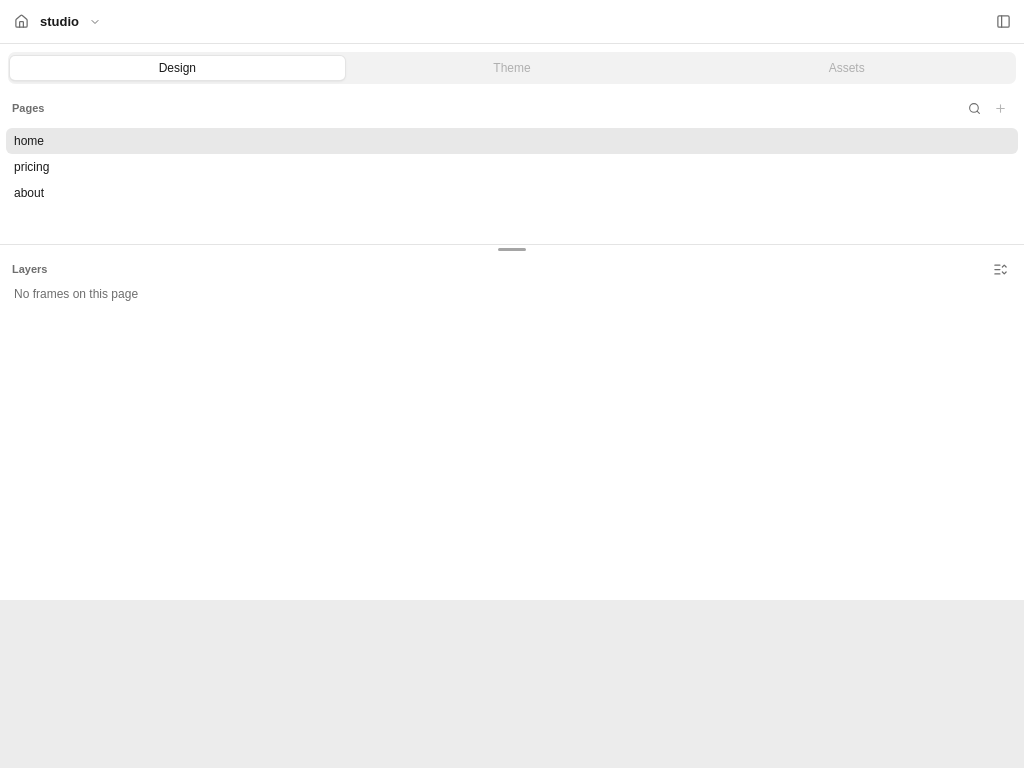
Test: LeftPanel › pages › says when no page matches the search
Click the button named "Search pages" at (974, 108), box [962, 96, 986, 120]
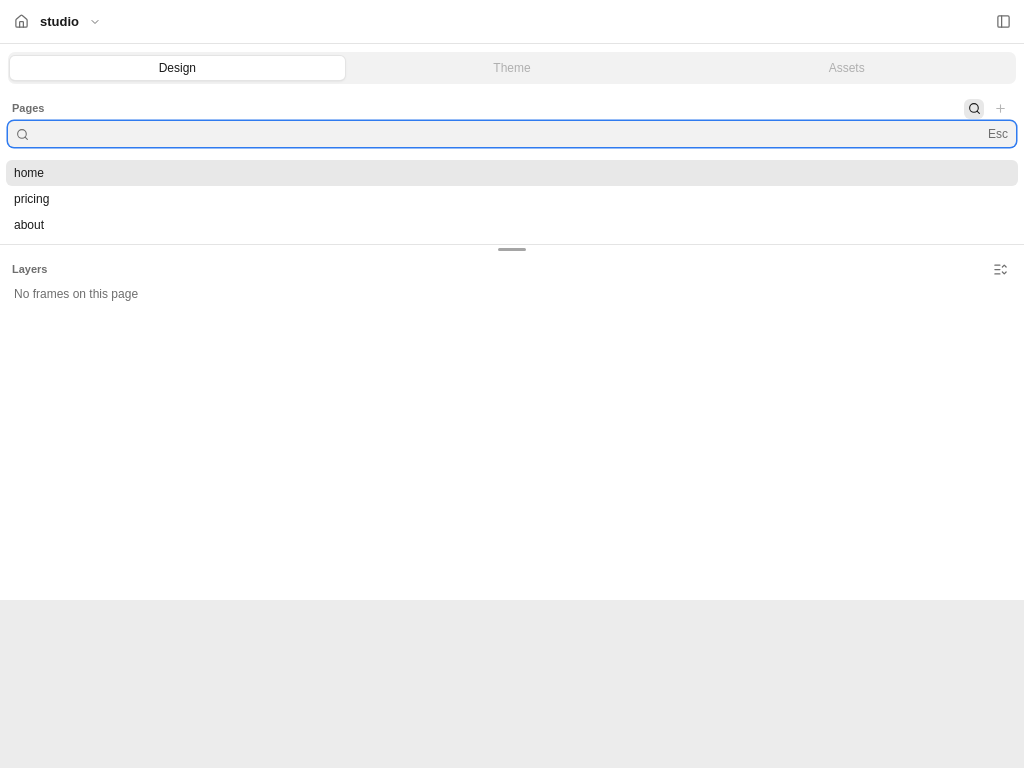
Type keys "zzz"
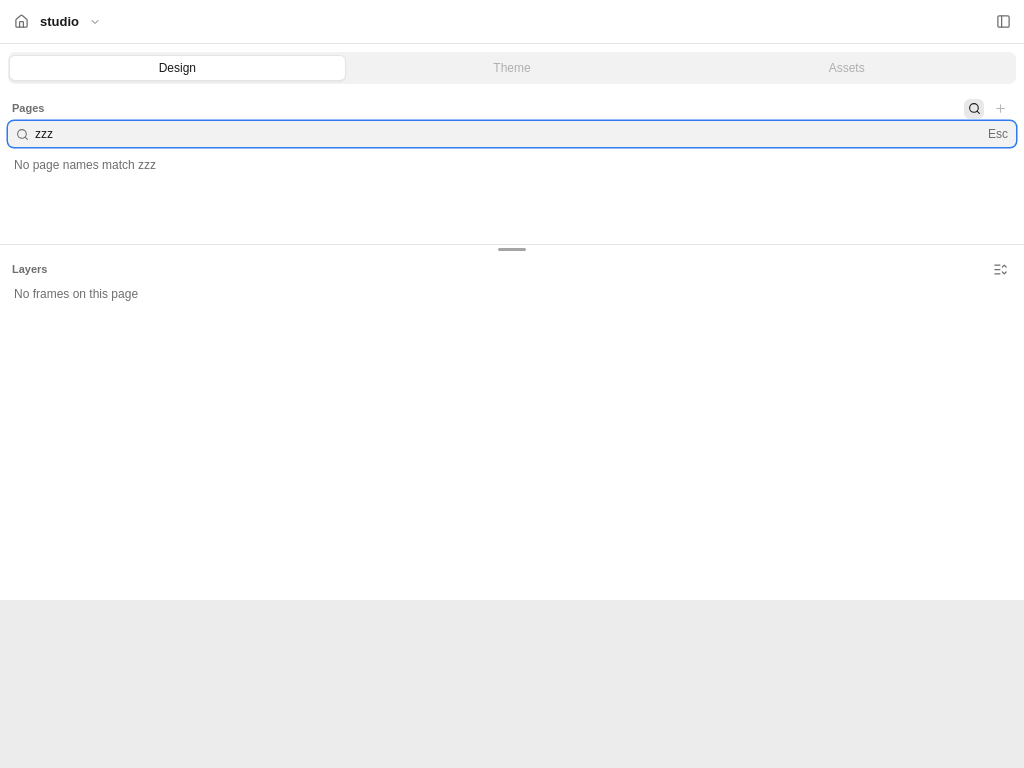
Now the text "No page names match zzz" is shown, box [14, 158, 156, 172]
